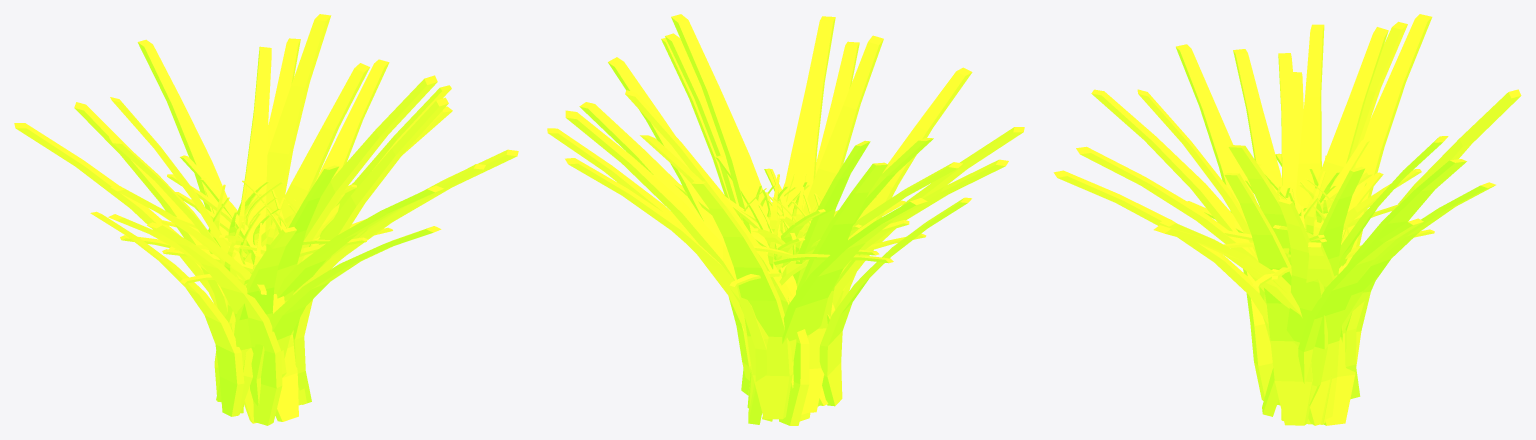
File: gress_straw.fbx
3 renders of one model, left to right at view 1: azimuth 30°, elevation 25°; view 2: azimuth 150°, elevation 25°; view 3: azimuth 270°, elevation 25°, orthographic. The views are drawn at different scales.
Parts seen in each view (by area): view 1: Cube.008, Cube.018, Cube.009, Cube.023, Cube.001, Cube.012, Cube.019, Cube.004, Cube.011, Cube.002, Cube.005, Cube (+12 smaller); view 2: Cube.005, Cube.018, Cube, Cube.019, Cube.016, Cube.013, Cube.011, Cube.001, Cube.012, Cube.002, Cube.010, Cube.014 (+11 smaller); view 3: Cube.023, Cube.006, Cube.008, Cube, Cube.018, Cube.010, Cube.021, Cube.003, Cube.002, Cube.016, Cube.009, Cube.005 (+12 smaller).
Part boxes in pixels (x1,y1,x2,y2): Cube.008: (147,213,282,425); Cube.018: (169,14,331,262); Cube.009: (200,177,441,406); Cube.023: (162,97,448,404); Cube.001: (90,211,254,416); Cube.012: (214,46,271,402); Cube.019: (120,75,437,264); Cube.004: (180,63,369,284); Cube.011: (191,165,339,421); Cube.002: (204,186,296,423); Cube.005: (137,39,330,244); Cube: (14,123,356,413); Cube.005: (691,173,794,419); Cube.018: (565,110,909,424); Cube: (715,155,927,421); Cube.019: (671,14,893,408); Cube.016: (751,16,835,248); Cube.013: (764,162,887,413); Cube.011: (729,35,883,286); Cube.001: (752,197,971,406); Cube.012: (640,135,905,425); Cube.002: (753,67,972,406); Cube.010: (608,57,829,380); Cube.014: (565,158,877,346); Cube.023: (1224,173,1312,425); Cube.006: (1245,179,1423,425); Cube.008: (1176,44,1326,400); Cube: (1273,14,1432,266); Cube.018: (1275,153,1466,425); Cube.010: (1278,181,1366,420); Cube.021: (1271,24,1324,279); Cube.003: (1252,27,1388,287); Cube.002: (1091,89,1399,405); Cube.016: (1076,146,1421,261); Cube.009: (1053,170,1372,342); Cube.005: (1222,89,1521,399).
Bounding box in the file's own units: 269 × 219 × 273.
